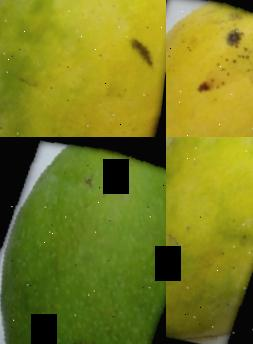PartiallyRipe: (0, 0, 166, 137), (166, 137, 253, 344)
Ripe: (166, 0, 253, 137)
Unripe: (0, 137, 166, 344)
